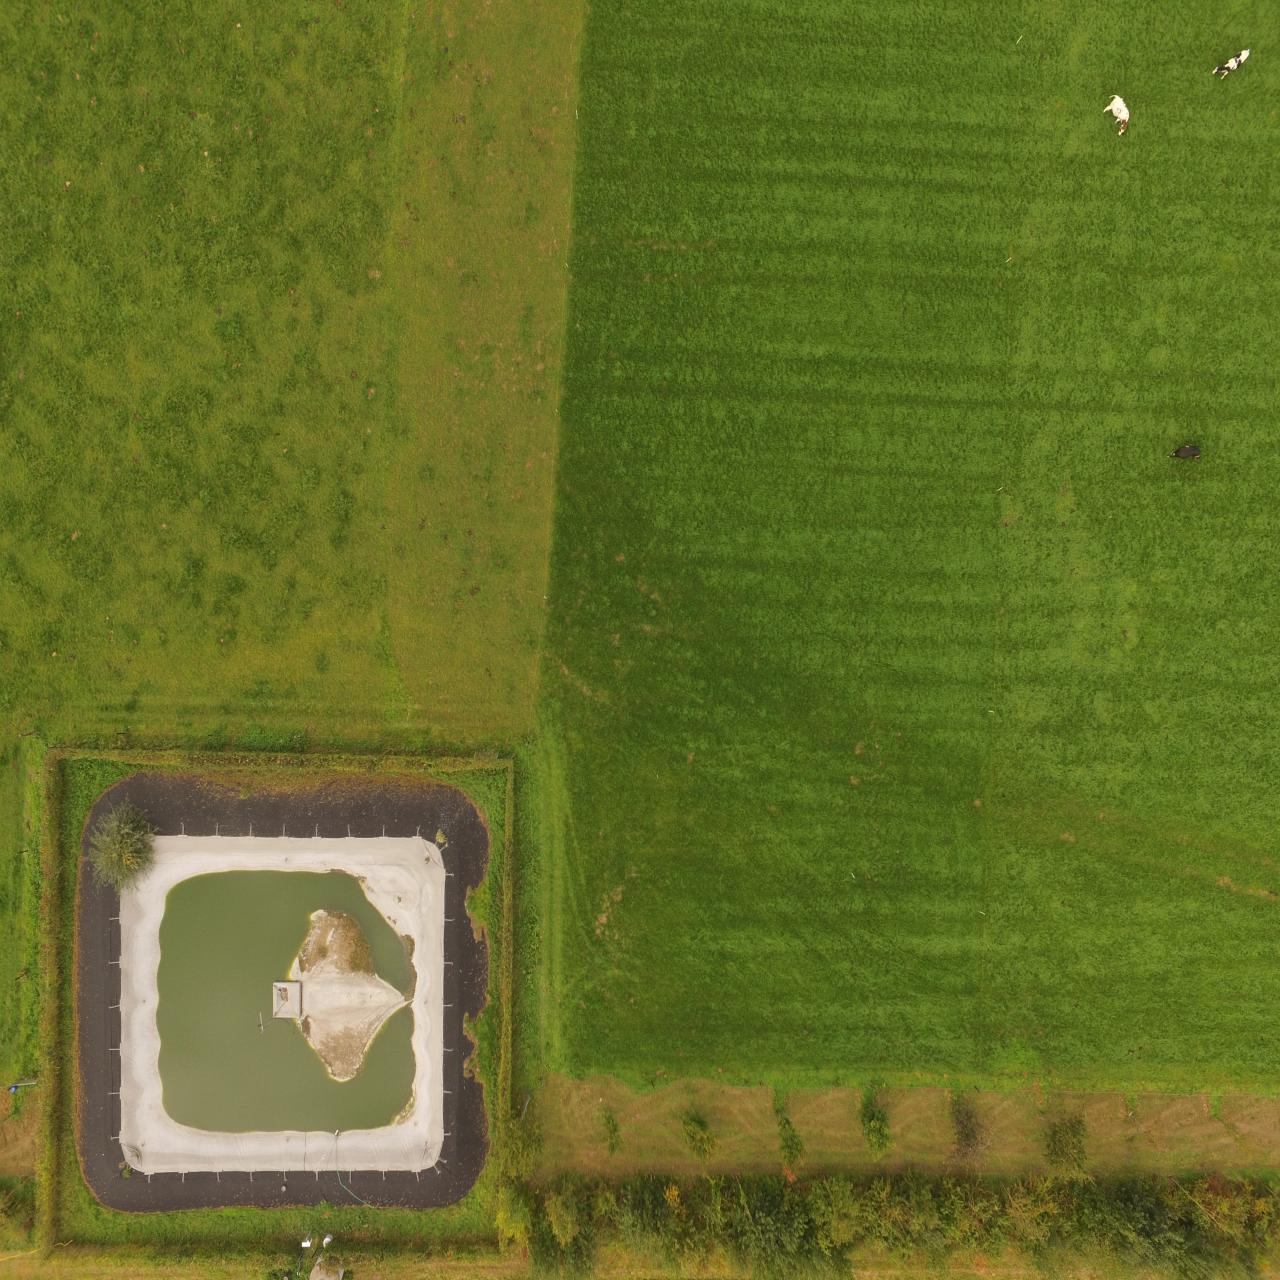cow: (1212, 46, 1253, 84), (1098, 90, 1132, 134), (1169, 443, 1203, 463)
